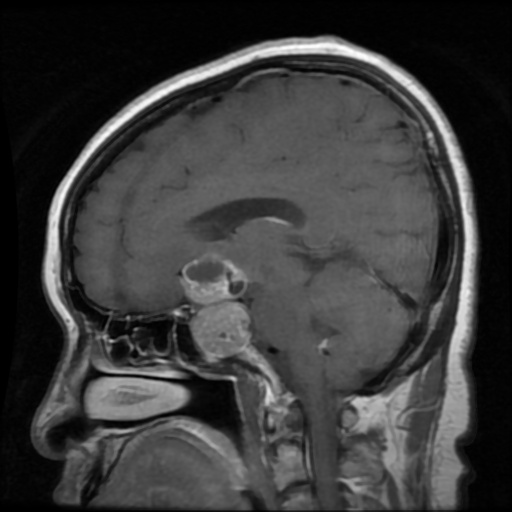pituitary: (182, 252, 250, 356)
